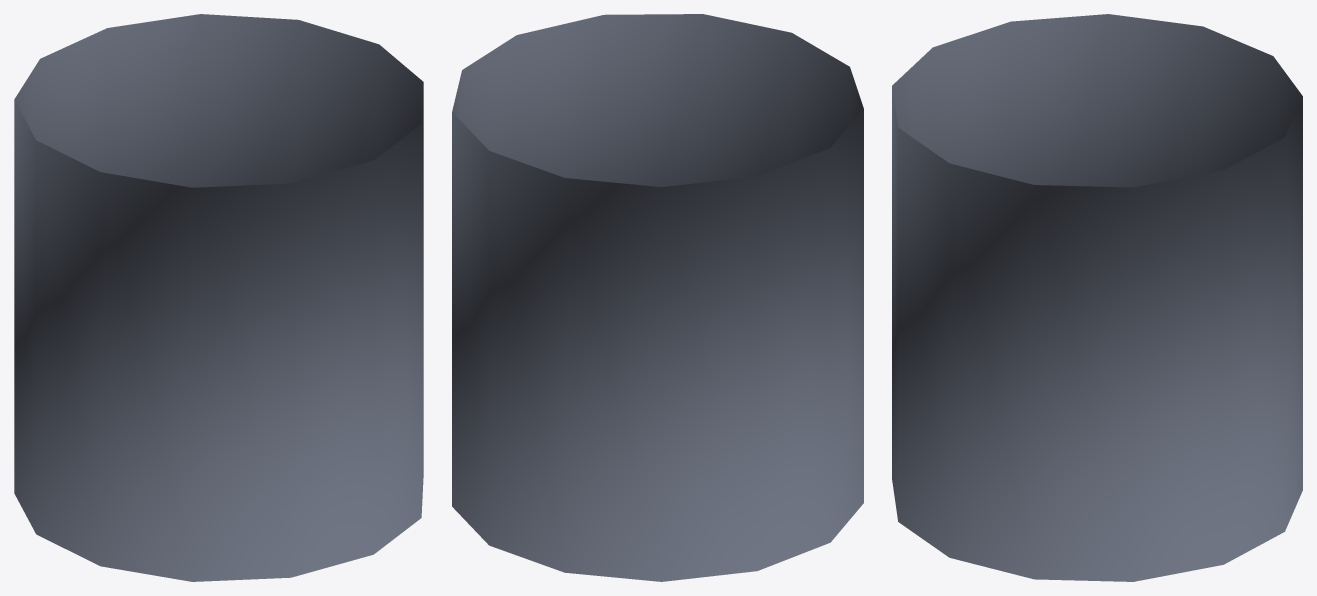
The model's file is solo_upper_leg_right_side_5.obj.
3 renders of one model, left to right at view 1: azimuth 30°, elevation 25°; view 2: azimuth 150°, elevation 25°; view 3: azimuth 270°, elevation 25°, orthographic.
Size of the model in its own units: 0.00396 by 0.0042 by 0.00396.
